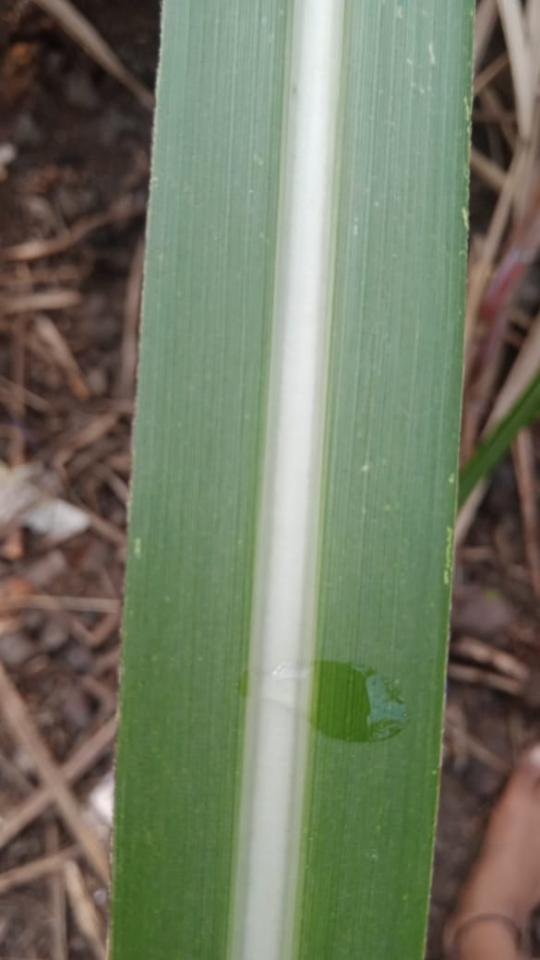Healthy: (112, 0, 473, 959)
